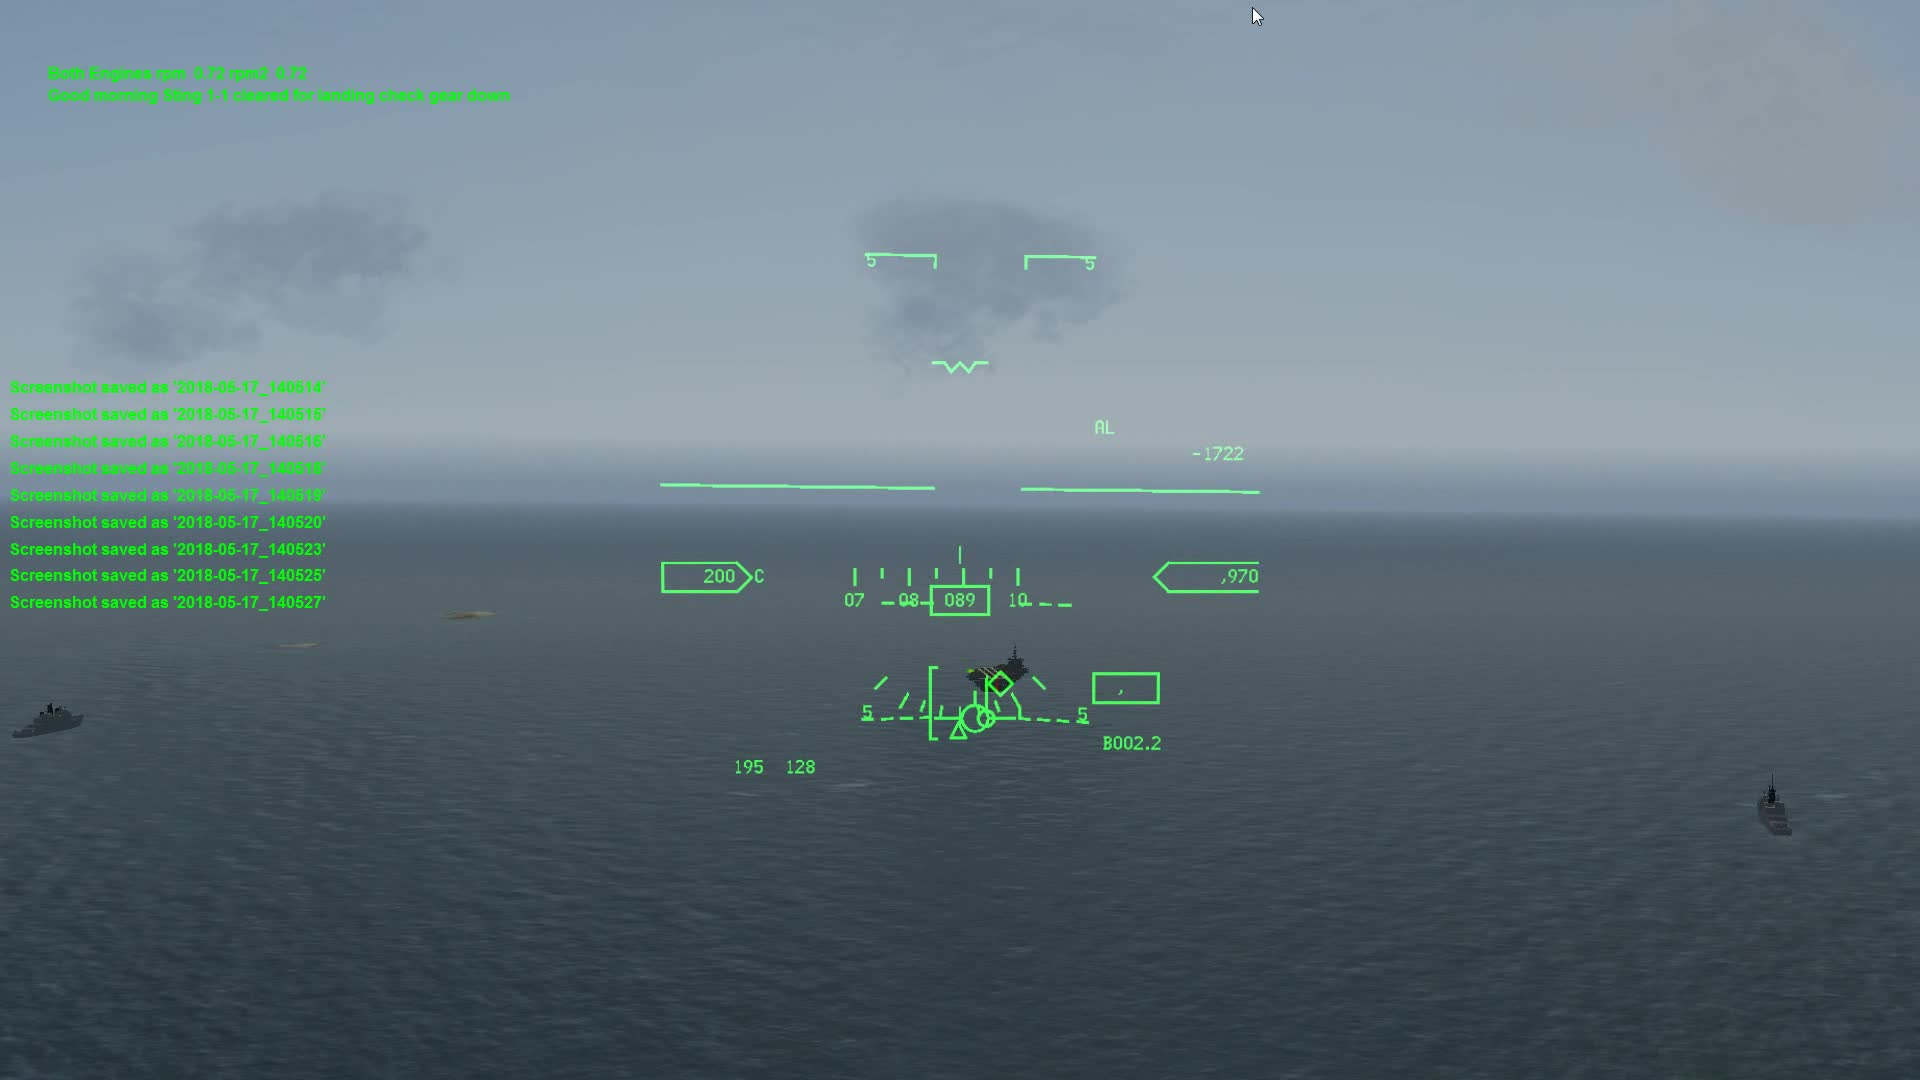speed vector: (938, 676, 1022, 738)
